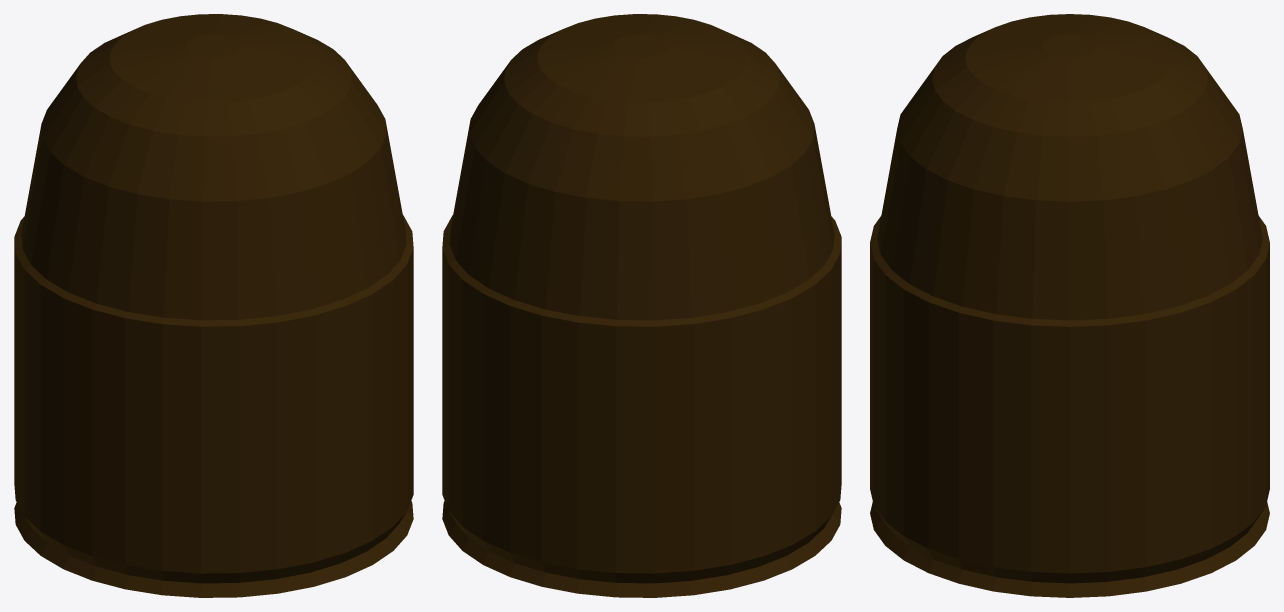
Rendered from Bullet_Pistol.obj.
3 views of the same model, side by side, from view 1: azimuth 30°, elevation 25°; view 2: azimuth 150°, elevation 25°; view 3: azimuth 270°, elevation 25° (orthographic).
Parts seen in each view (by area): view 1: Cylinder; view 2: Cylinder; view 3: Cylinder.
Part boxes in pixels (x1,y1,x2,y2): Cylinder: (14, 14, 413, 597); Cylinder: (442, 14, 841, 597); Cylinder: (870, 14, 1269, 597).
Bounding box in the file's own units: 2 × 2.58 × 2.
